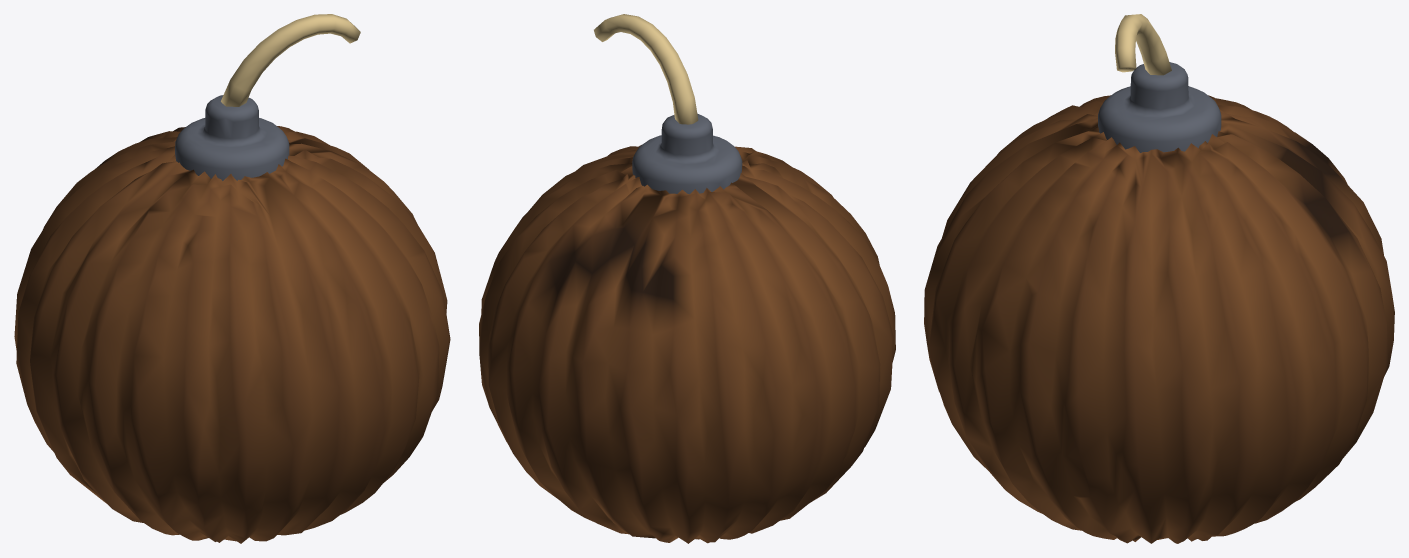
The model's file is coconut_bomb.glb.
3 renders of one model, left to right at view 1: azimuth 30°, elevation 25°; view 2: azimuth 150°, elevation 25°; view 3: azimuth 270°, elevation 25°, orthographic. The views are drawn at different scales.
Parts seen in each view (by area): view 1: coconut_bomb_mesh; view 2: coconut_bomb_mesh; view 3: coconut_bomb_mesh.
Boxes of the visible parts, x1,y1,x2,y2 form: coconut_bomb_mesh: [14, 14, 450, 543]; coconut_bomb_mesh: [479, 14, 895, 543]; coconut_bomb_mesh: [924, 14, 1394, 543].
Size of the model in its own units: 0.5703 by 0.7217 by 0.5725.
